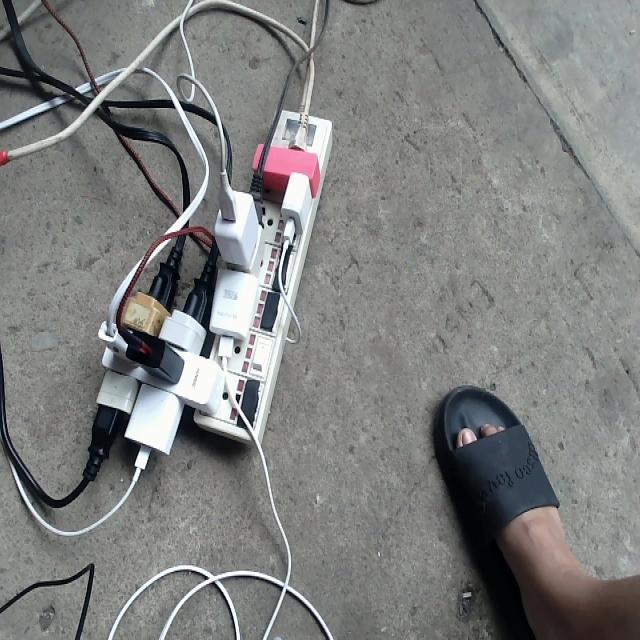-: (90, 101, 335, 452)
